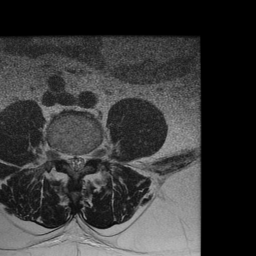CCS_normal: (72, 146, 80, 177)
LFS_normal: (86, 143, 94, 167)
LLS_normal: (80, 145, 87, 173)
RFS_normal: (58, 142, 65, 168)
RLS_normal: (65, 145, 72, 173)
